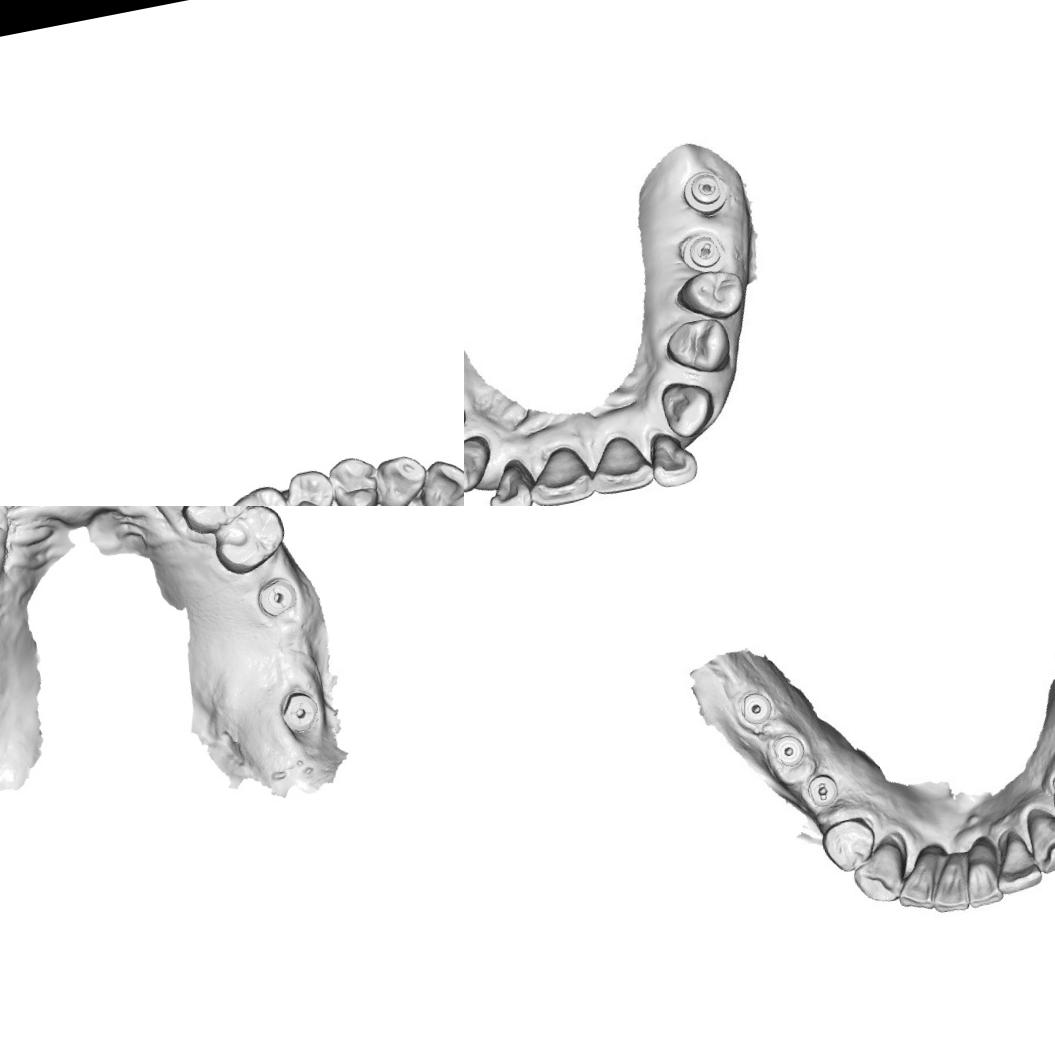canine: (844, 838, 916, 910), (653, 370, 721, 443), (371, 450, 432, 506), (464, 430, 496, 498), (1022, 804, 1055, 869)
implant: (731, 684, 778, 732), (766, 732, 806, 772)
implant_minus: (678, 162, 732, 224), (676, 229, 730, 276), (254, 572, 299, 619), (804, 764, 844, 810)
implant_plus: (276, 684, 325, 738)
incisor: (582, 434, 657, 502), (521, 442, 598, 506), (643, 426, 701, 492), (990, 831, 1045, 895), (892, 847, 947, 911), (958, 837, 1008, 907), (922, 848, 973, 914), (479, 457, 539, 506), (414, 453, 464, 506)
molar: (217, 480, 299, 506)
premolar: (204, 506, 293, 577), (656, 312, 737, 382), (670, 261, 750, 329), (816, 812, 881, 877), (323, 452, 385, 506), (172, 506, 262, 537), (281, 464, 340, 506)
